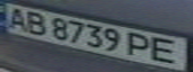3: (81, 21, 106, 50)
7: (63, 19, 87, 45)
8: (45, 15, 72, 42)
9: (103, 26, 127, 54)
A: (3, 4, 30, 32)
B: (21, 9, 51, 36)
E: (145, 35, 190, 65)
P: (124, 29, 157, 60)
